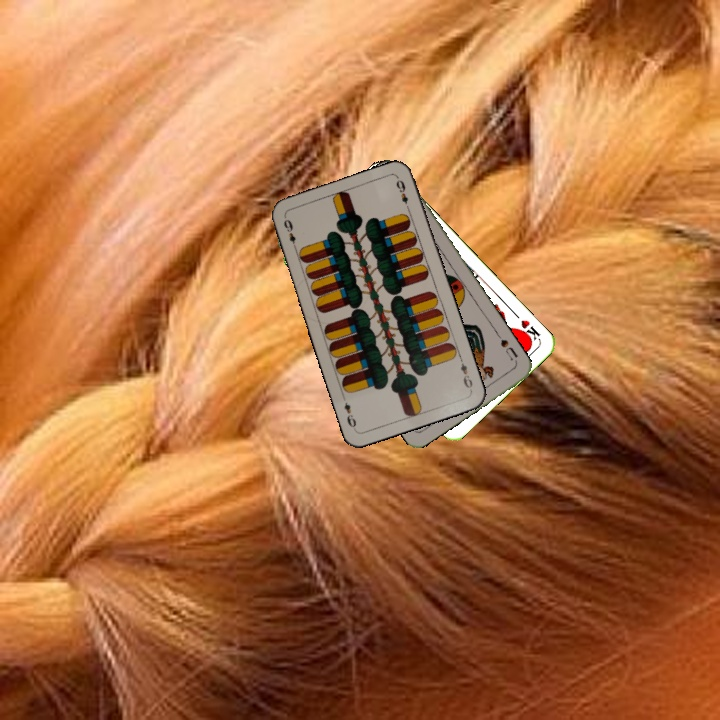E9: (455, 353, 475, 393), (280, 213, 299, 253)
HK: (511, 310, 543, 345)
SU: (493, 329, 521, 366)
